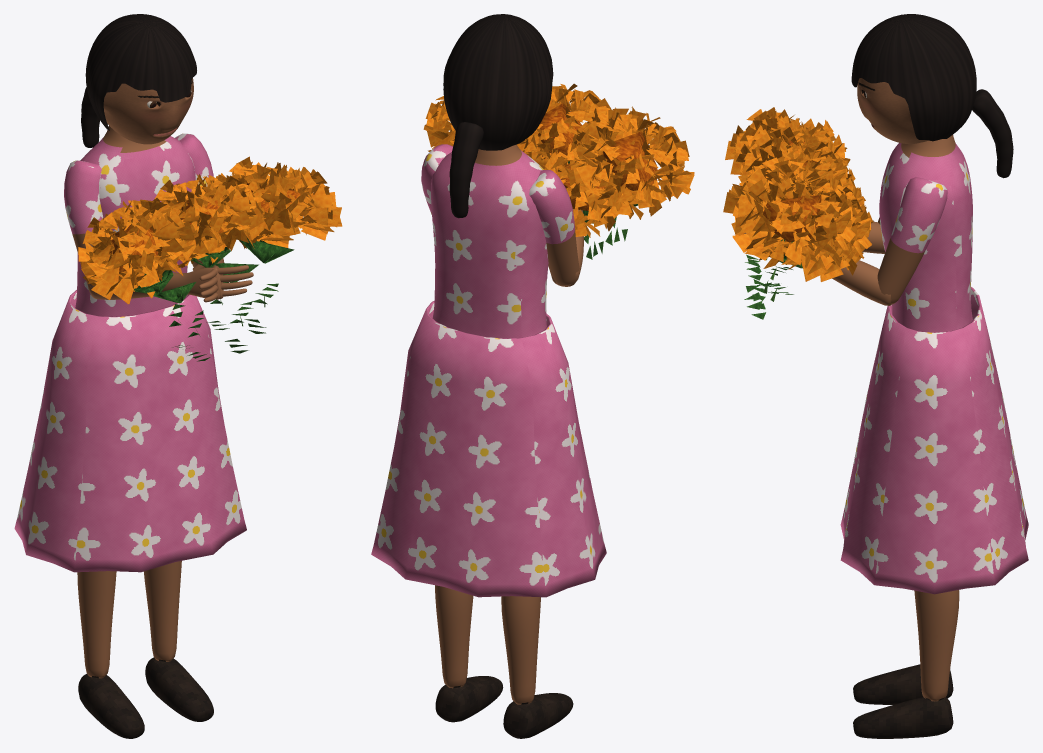
File: persona_nina_flores.obj
The picture shows the model from 3 angles, left to right: view 1: azimuth 30°, elevation 25°; view 2: azimuth 150°, elevation 25°; view 3: azimuth 270°, elevation 25°; orthographic projection.
Parts seen in each view (by area): view 1: persona_nina_flores, Flor_Cempasuchil.001, Flor_Cempasuchil.003, Flor_Cempasuchil.002, Flor_Cempasuchil.005, Flor_Cempasuchil.004; view 2: persona_nina_flores, Flor_Cempasuchil.001, Flor_Cempasuchil.002, Flor_Cempasuchil.004, Flor_Cempasuchil.003; view 3: persona_nina_flores, Flor_Cempasuchil.003, Flor_Cempasuchil.002, Flor_Cempasuchil.005, Flor_Cempasuchil.001.
Boxes of the visible parts, left/top/right/bottom form: persona_nina_flores: left=14, top=14, right=253, bottom=738; Flor_Cempasuchil.001: left=78, top=198, right=198, bottom=348; Flor_Cempasuchil.003: left=219, top=156, right=342, bottom=333; Flor_Cempasuchil.002: left=148, top=174, right=265, bottom=329; Flor_Cempasuchil.005: left=185, top=185, right=300, bottom=353; Flor_Cempasuchil.004: left=118, top=225, right=223, bottom=361; persona_nina_flores: left=371, top=14, right=606, bottom=738; Flor_Cempasuchil.001: left=564, top=106, right=694, bottom=245; Flor_Cempasuchil.002: left=517, top=83, right=623, bottom=178; Flor_Cempasuchil.004: left=534, top=140, right=640, bottom=259; Flor_Cempasuchil.003: left=423, top=96, right=557, bottom=151; persona_nina_flores: left=744, top=14, right=1028, bottom=738; Flor_Cempasuchil.003: left=723, top=156, right=856, bottom=309; Flor_Cempasuchil.002: left=730, top=127, right=851, bottom=280; Flor_Cempasuchil.005: left=751, top=167, right=873, bottom=319; Flor_Cempasuchil.001: left=725, top=107, right=850, bottom=273.
Bounding box in the file's own units: 0.4272 × 1.15 × 0.4528.
Materials: 14 (14 with a texture image).
